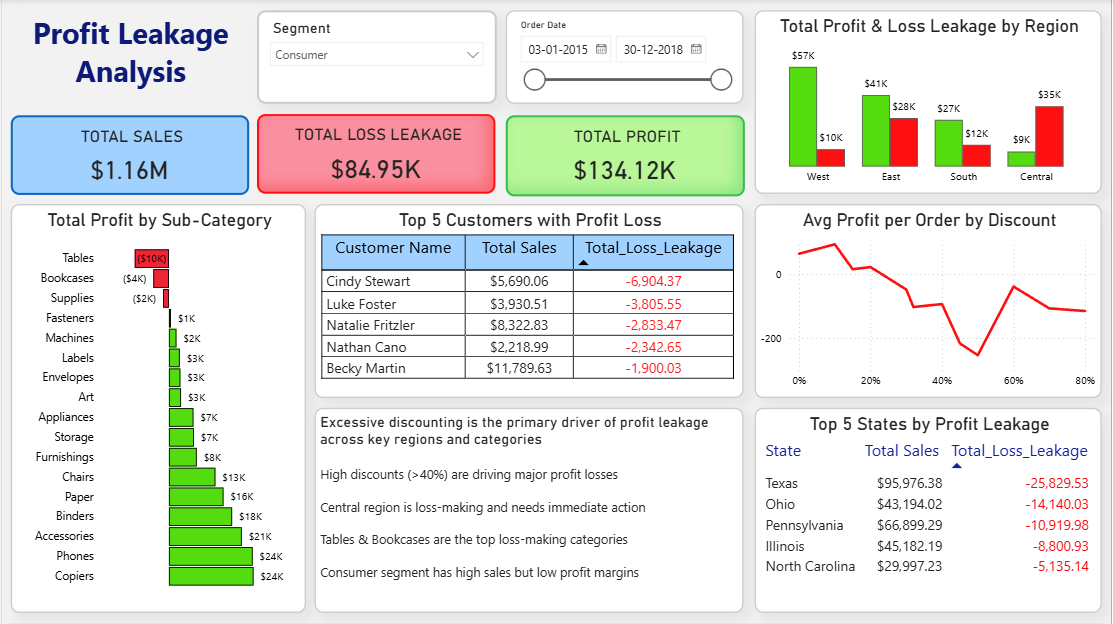

This screenshot's page, from the dashboard's own definition file:
{"tool":"powerbi","page":{"name":"Page 1","canvas":[1280,720],"ordinal":0},"visuals":[{"type":"clusteredBarChart","fields":{"Category":["superstore.Sub-Category"],"Y":["superstore.Total Profit"]},"box":[10.8,236.5,340.5,471.6],"z":0},{"type":"clusteredColumnChart","title":"Total Profit & Loss Leakage by Region","fields":{"Category":["superstore.Region"],"Y":["superstore.Total Profit","superstore.Total Loss Leakage"]},"box":[868.6,13.3,400.5,212.3],"z":1000},{"type":"lineChart","fields":{"Category":["superstore.Discount"],"Y":["superstore.Avg Profit per Order"]},"box":[868.5,236.6,401.1,223.6],"z":2000},{"type":"tableEx","title":"Top 5 Customers with Profit Loss","fields":{"Values":["superstore.Customer Name","superstore.Total Sales","superstore.Total_Loss_Leakage"]},"box":[360.7,236.6,494.9,223.6],"z":3000},{"type":"card","title":"TOTAL SALES","fields":{"Values":["superstore.Total Sales"]},"box":[10.8,133.8,275,91.9],"z":4000},{"type":"card","title":"TOTAL LOSS LEAKAGE","fields":{"Values":["superstore.Total Loss Leakage"]},"box":[294.3,132.7,275.6,92.3],"z":5000},{"type":"card","title":"TOTAL PROFIT","fields":{"Values":["superstore.Total Profit"]},"box":[581.1,133.8,275.7,93.2],"z":6000},{"type":"slicer","fields":{"Values":["superstore.Segment"]},"box":[294.3,13,277,108.2],"z":7000},{"type":"slicer","fields":{"Values":["superstore.Order Date"]},"box":[581.4,13,274.1,108.2],"z":8000},{"type":"shape","box":[20.3,0,256.8,120.3],"z":9000},{"type":"tableEx","title":"Top 5 States by Profit Leakage","fields":{"Values":["superstore.State","superstore.Total Sales","superstore.Total_Loss_Leakage"]},"box":[868.5,471.8,401.1,236.6],"z":10000},{"type":"textbox","title":"Excessive discounting is the primary driver of profit leakage across key regions and categories\n","box":[360.7,471.8,494.9,236.6],"z":11000}]}

Visuals, with their boxes in screenshot pixels (x1, y1, x2, y2), scaled from the page's 1280x720 canvas onto the 1113x624 screenshot:
clusteredBarChart - superstore.Sub-Category x superstore.Total Profit: [left=9, top=205, right=305, bottom=614]
"Total Profit & Loss Leakage by Region" clusteredColumnChart: [left=755, top=12, right=1104, bottom=196]
lineChart - superstore.Discount x superstore.Avg Profit per Order: [left=755, top=205, right=1104, bottom=399]
"Top 5 Customers with Profit Loss" tableEx: [left=314, top=205, right=744, bottom=399]
"TOTAL SALES" card: [left=9, top=116, right=249, bottom=196]
"TOTAL LOSS LEAKAGE" card: [left=256, top=115, right=496, bottom=195]
"TOTAL PROFIT" card: [left=505, top=116, right=745, bottom=197]
slicer - superstore.Segment: [left=256, top=11, right=497, bottom=105]
slicer - superstore.Order Date: [left=506, top=11, right=744, bottom=105]
shape: [left=18, top=0, right=241, bottom=104]
"Top 5 States by Profit Leakage" tableEx: [left=755, top=409, right=1104, bottom=614]
"Excessive discounting is the primary driver of profit leakage across key regions and categories
" textbox: [left=314, top=409, right=744, bottom=614]
